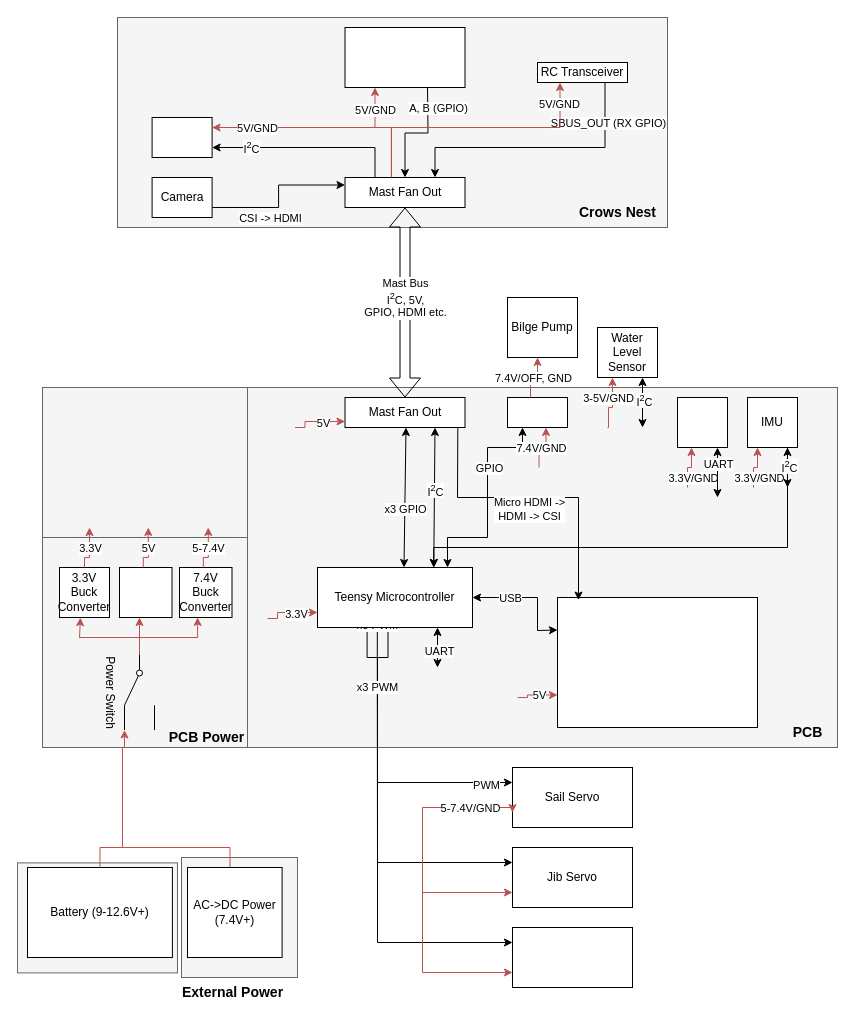
Some shapes in this 855 by 1025 pixel diagram are drawn without their labels. The shapes that lost their labels are listed below. From the top down, each one's box as (x1, y1, x2, y2) in pixels, then its label:
(344, 26, 465, 88): WindVane
(151, 116, 212, 158): Camera Servos
(506, 396, 568, 428): MOSFET
(676, 396, 728, 448): GPS
(118, 566, 172, 618): 5V Buck Converter
(556, 596, 758, 728): Pi5
(512, 926, 632, 988): Rudder Servo
